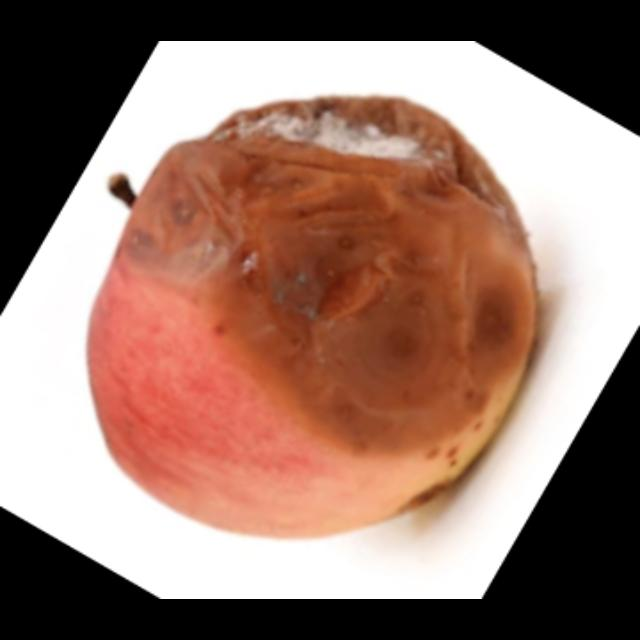Apel Tidak Segar: (78, 86, 550, 548)
